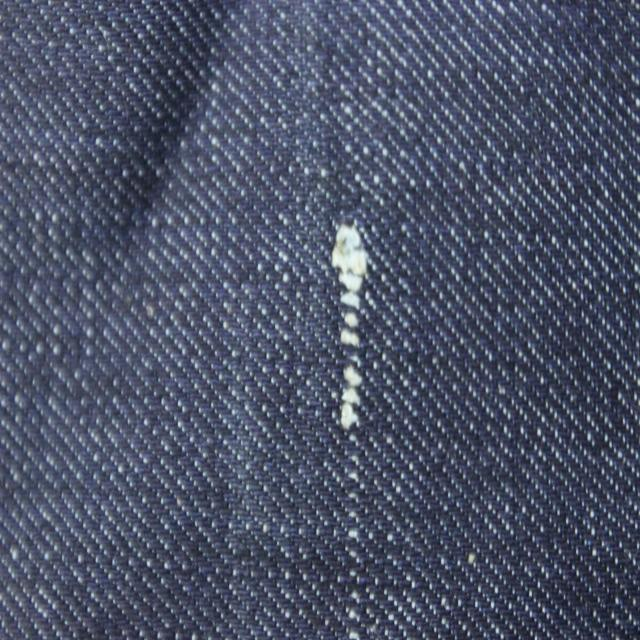pulled_or_thick_thread: (329, 220, 375, 444)
